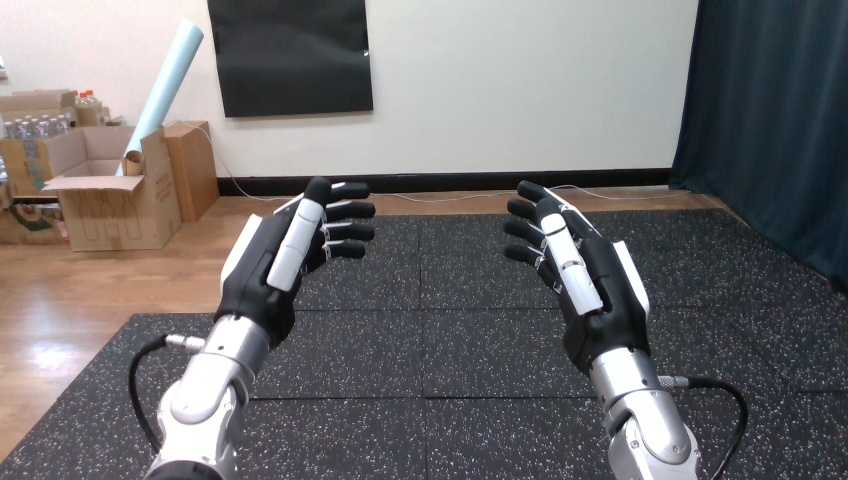left robot arm: (504, 181, 746, 479), (146, 177, 374, 478)
left robot hand: (504, 181, 746, 479), (146, 177, 374, 478)
right robot arm: (504, 181, 746, 479), (146, 177, 374, 478)
right robot hand: (504, 181, 746, 479), (146, 177, 374, 478)
